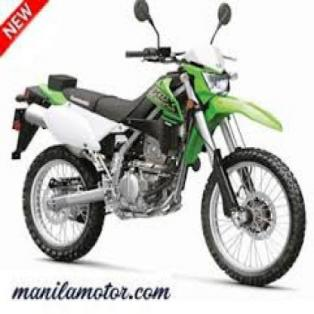Motocicleta: (14, 13, 310, 284)
